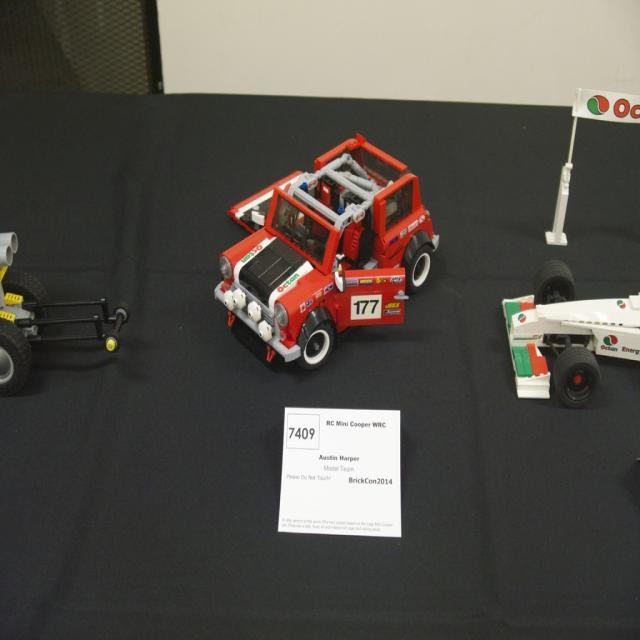car: (207, 137, 446, 374)
